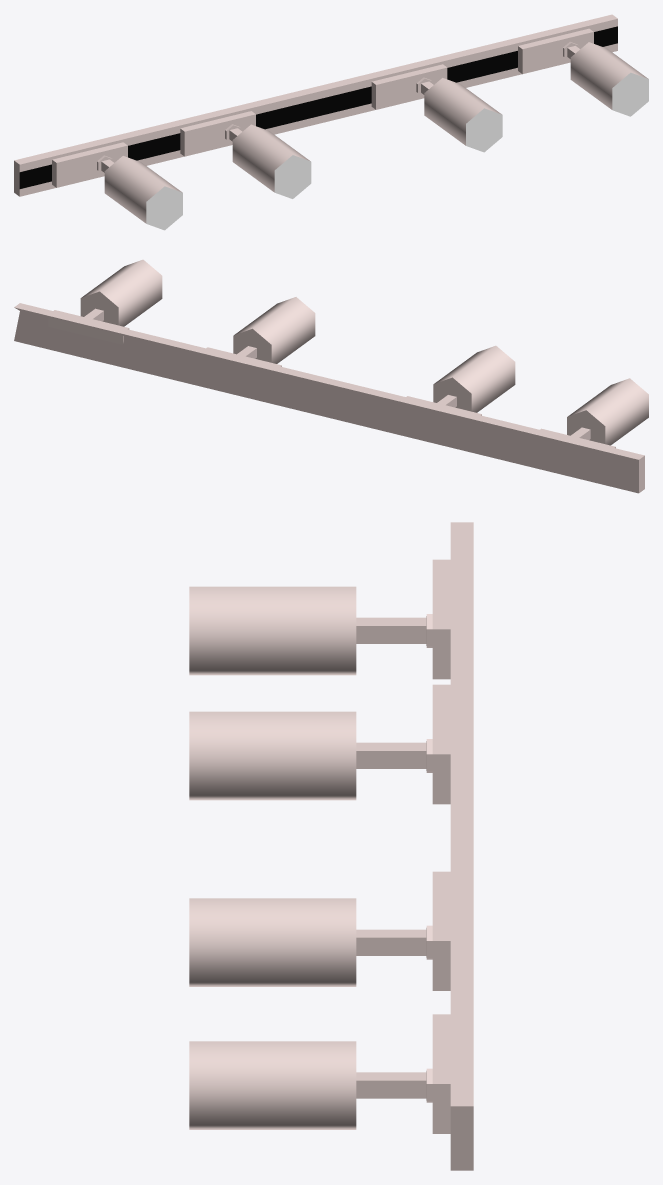
File: luminaria escada.fbx
3 views of the same model, one above another, from view 1: azimuth 30°, elevation 25°; view 2: azimuth 150°, elevation 25°; view 3: azimuth 270°, elevation 25° (orthographic). The views are drawn at different scales.
Parts seen in each view (by area): view 1: Cube.001; view 2: Cube.001; view 3: Cube.001.
Boxes of the visible parts, box(x1,y1,x2,y2) form: Cube.001: box(14, 14, 648, 230); Cube.001: box(14, 259, 648, 493); Cube.001: box(189, 522, 473, 1170).
Bounding box in the file's own units: 60 × 4.24 × 12.34.
